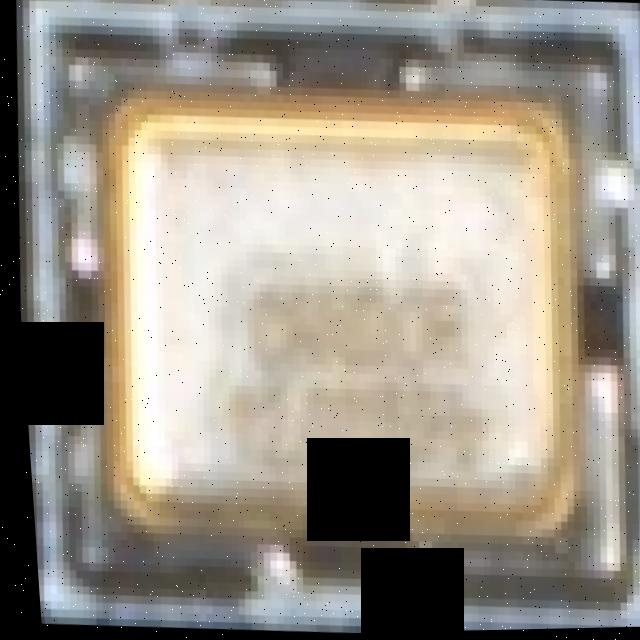clock Q1: (5, 7, 640, 632)
